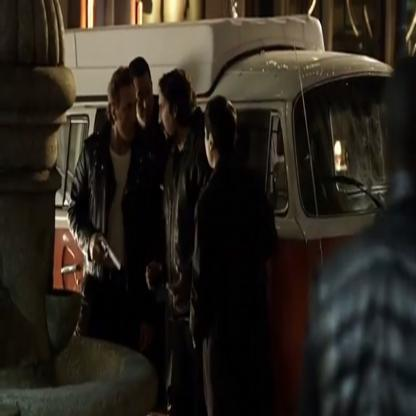gun: (98, 231, 124, 282)
